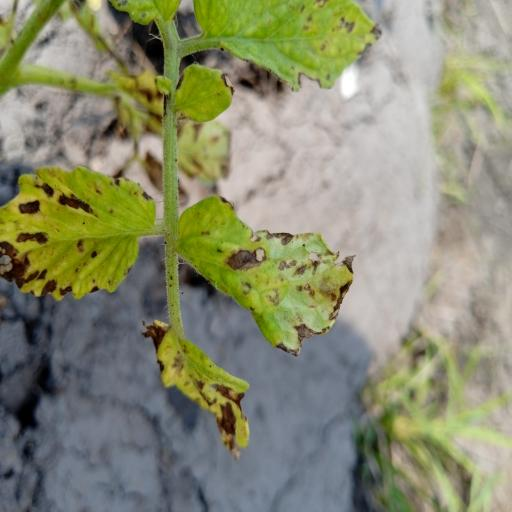Tomato_Brown_Spots: (175, 191, 359, 357), (0, 159, 166, 304), (188, 0, 392, 92)
